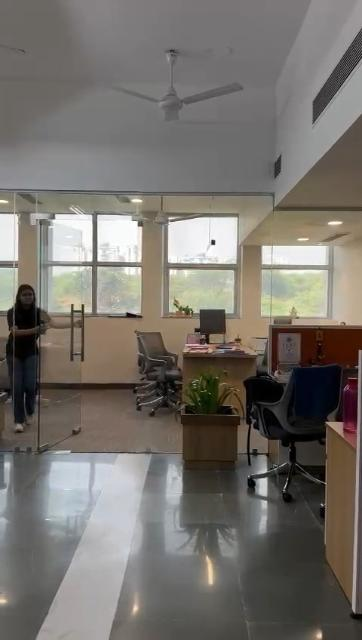floor: (1, 454, 183, 640), (187, 498, 320, 640), (76, 413, 176, 459)
moving-obj: (0, 267, 72, 439)
object: (251, 358, 337, 492), (180, 376, 244, 484), (124, 328, 182, 408), (189, 305, 237, 341)
wall: (76, 316, 124, 390), (241, 195, 263, 348), (144, 222, 166, 328), (16, 213, 38, 283)
